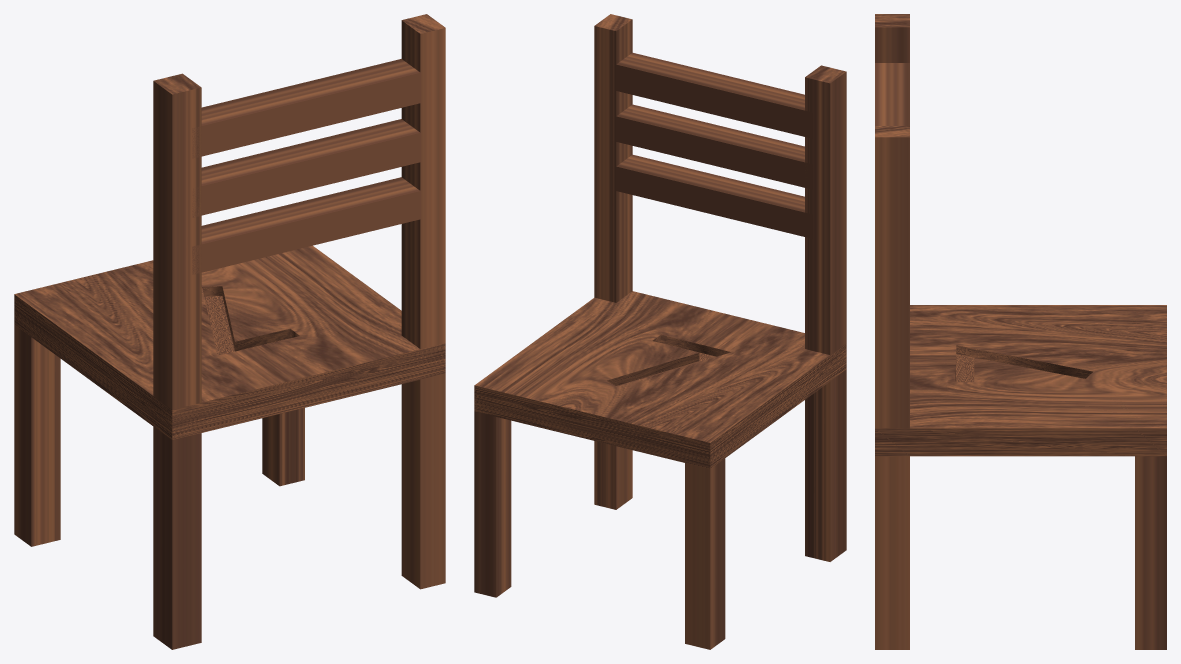
File: 7chair.glb
3 renders of one model, left to right at view 1: azimuth 30°, elevation 25°; view 2: azimuth 150°, elevation 25°; view 3: azimuth 270°, elevation 25°, orthographic. The views are drawn at different scales.
Parts seen in each view (by area): view 1: Cube; view 2: Cube; view 3: Cube.
Part boxes in pixels (<box>): Cube: <box>14,14,445,649</box>; Cube: <box>474,14,846,649</box>; Cube: <box>875,14,1166,649</box>.
Bounding box in the file's own units: 2 × 3.88 × 2.
Materials: 1 (1 with a texture image).
